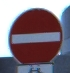No entry: (7, 6, 64, 67)
